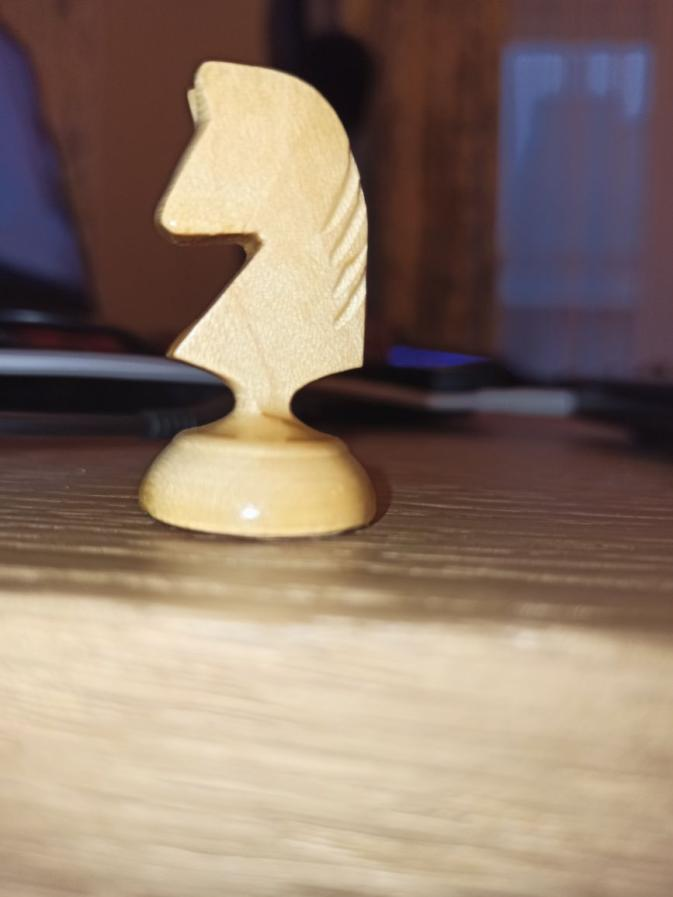wknight: (133, 61, 384, 535)
